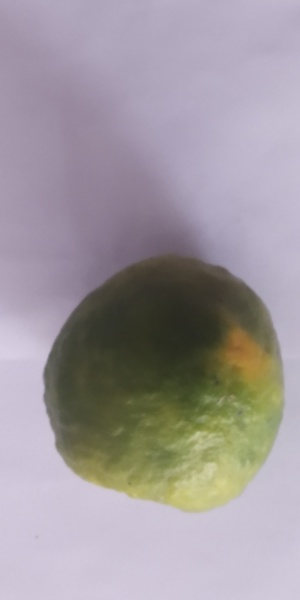BAD: (42, 254, 299, 514)
